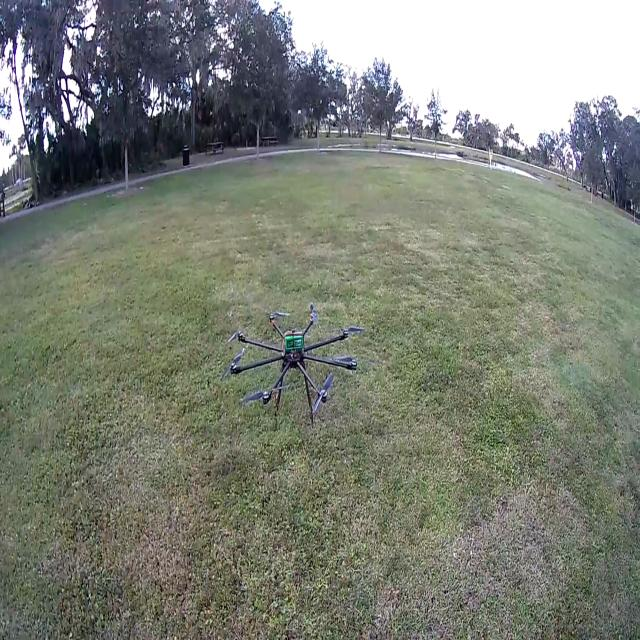drone: (228, 284, 369, 456)
